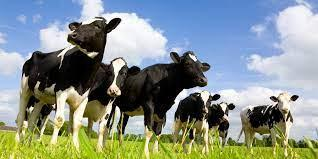cow: (15, 16, 122, 151), (118, 50, 210, 159), (69, 57, 140, 152), (239, 92, 300, 157), (173, 89, 221, 159), (212, 102, 236, 155)
